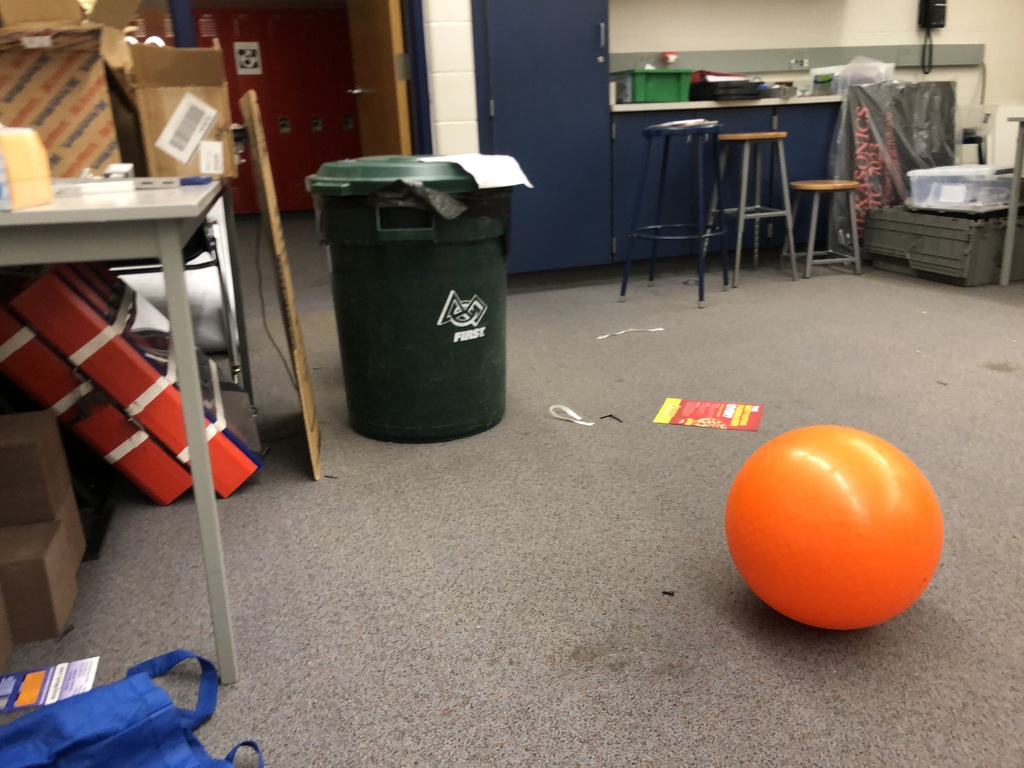cargo: (718, 408, 950, 648)
